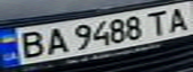4: (90, 18, 112, 47)
8: (124, 12, 148, 42), (109, 16, 130, 45)
9: (69, 20, 93, 52)
A: (39, 25, 72, 56), (163, 3, 193, 33)
B: (12, 28, 51, 61)
T: (142, 8, 172, 37)
